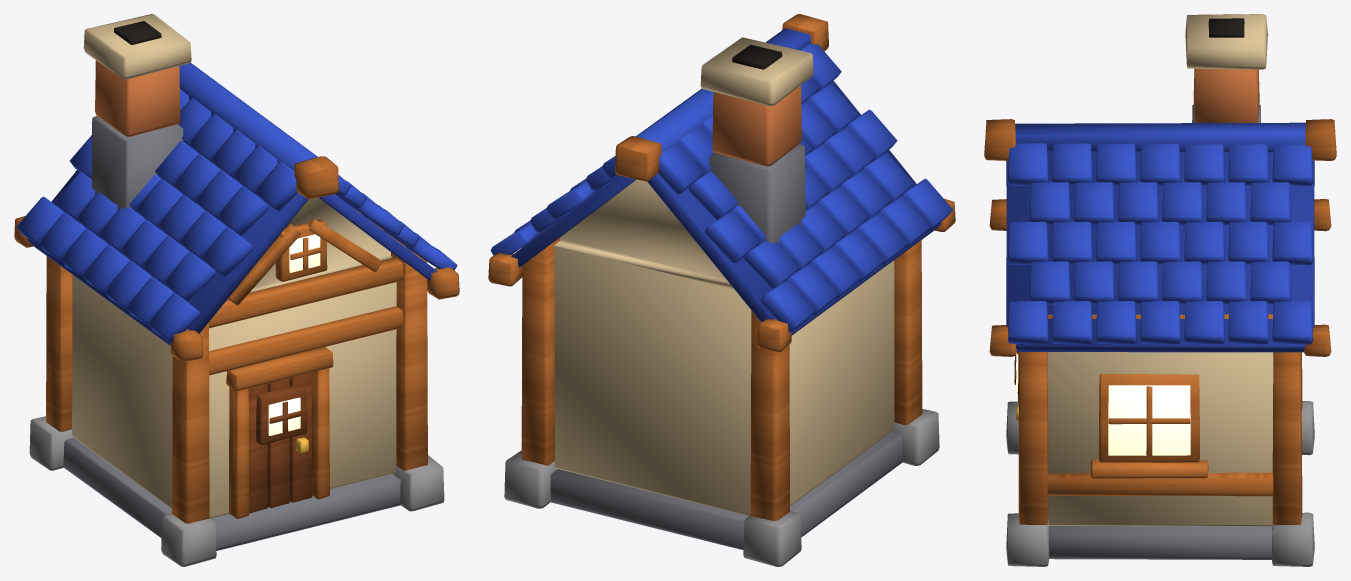
File: OBJ02_cottage_blue.glb
3 views of the same model, side by side, from view 1: azimuth 30°, elevation 25°; view 2: azimuth 150°, elevation 25°; view 3: azimuth 270°, elevation 25° (orthographic). The views are drawn at different scales.
Parts seen in each view (by area): view 1: RoofTiles, Walls, TimberFrame, Plinth, RoofSlabs, ChimneyBase, ChimneyBrick, ChimneyCap, RidgeCap, Gable_1, Jamb_-1, Lintel (+17 smaller); view 2: Walls, RoofTiles, TimberFrame, Plinth, Gable_-1, RoofSlabs, ChimneyBase, ChimneyBrick, ChimneyCap, RidgeCap, CornerStone_-1_-1, CornerStone_1_-1 (+6 smaller); view 3: RoofTiles, Walls, TimberFrame, RoofSlabs, Plinth, RidgeCap, Pane2, ChimneyCap, ChimneyBrick, Frame2, Sill, CornerStone_1_1 (+12 smaller).
Part boxes in pixels (x1,y1,x2,y2): RoofTiles: [16, 89, 457, 342]; Walls: [72, 275, 396, 518]; TimberFrame: [46, 195, 427, 523]; Plinth: [63, 437, 400, 550]; RoofSlabs: [27, 147, 437, 345]; ChimneyBase: [91, 116, 183, 213]; ChimneyBrick: [95, 60, 180, 136]; ChimneyCap: [83, 14, 191, 79]; RidgeCap: [179, 63, 317, 170]; Gable_1: [250, 197, 392, 292]; Jamb_-1: [229, 387, 249, 518]; Lintel: [226, 347, 333, 390]; Walls: [554, 246, 894, 515]; RoofTiles: [490, 43, 952, 332]; TimberFrame: [521, 230, 922, 520]; Plinth: [550, 432, 902, 550]; Gable_-1: [554, 179, 734, 289]; RoofSlabs: [511, 81, 941, 335]; ChimneyBase: [709, 144, 805, 243]; ChimneyBrick: [712, 85, 801, 166]; ChimneyCap: [700, 37, 813, 106]; RidgeCap: [636, 28, 810, 152]; CornerStone_-1_-1: [743, 511, 801, 566]; CornerStone_1_-1: [504, 450, 557, 508]; RoofTiles: [1007, 143, 1313, 344]; Walls: [1047, 352, 1273, 526]; TimberFrame: [1018, 314, 1302, 524]; RoofSlabs: [1006, 151, 1314, 352]; Plinth: [1048, 526, 1272, 559]; RidgeCap: [1015, 122, 1305, 152]; Pane2: [1108, 385, 1190, 455]; ChimneyCap: [1185, 14, 1267, 69]; ChimneyBrick: [1193, 68, 1259, 122]; Frame2: [1098, 374, 1199, 462]; Sill: [1090, 459, 1208, 478]; CornerStone_1_1: [1006, 513, 1049, 566].
Bounding box in the file's own units: 1.23 × 1.78 × 1.28.
Materials: 11 (2 with a texture image).
